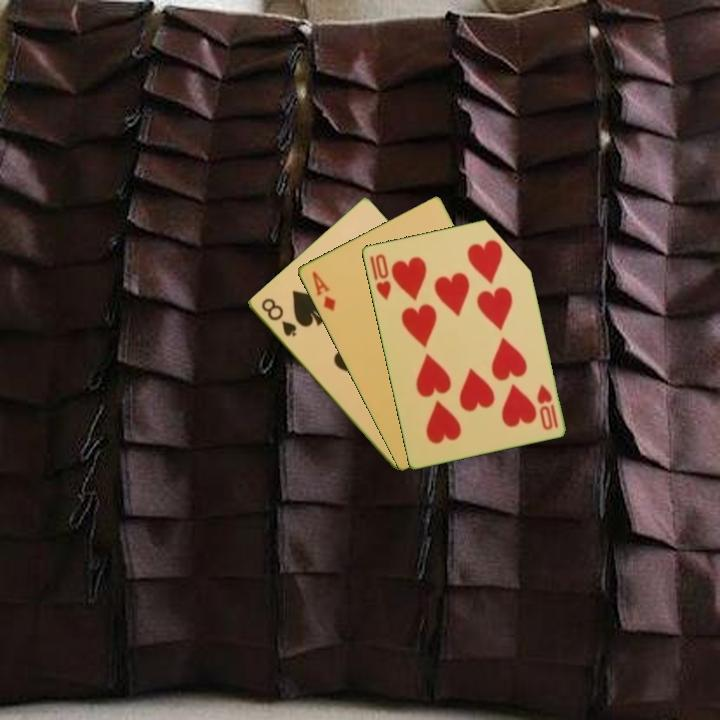10h: (366, 250, 394, 303), (533, 381, 561, 433)
8s: (257, 294, 299, 340)
Ad: (308, 267, 338, 314)
